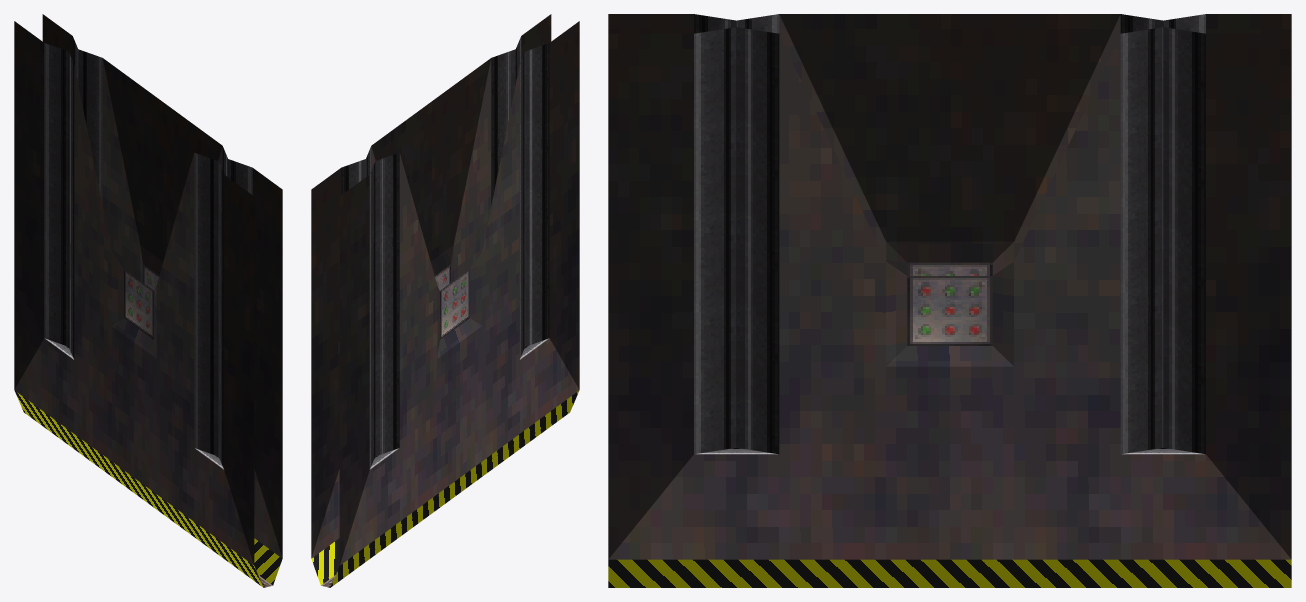
The model's file is control_blast_door_1.glb.
3 views of the same model, side by side, from view 1: azimuth 30°, elevation 25°; view 2: azimuth 150°, elevation 25°; view 3: azimuth 270°, elevation 25° (orthographic). The views are drawn at different scales.
Parts seen in each view (by area): view 1: Object; view 2: Object; view 3: Object.
Part boxes in pixels (bbox=[...]): Object: bbox=[14, 14, 282, 587]; Object: bbox=[311, 14, 579, 587]; Object: bbox=[608, 14, 1291, 587].
Bounding box in the file's own units: 0.1814 × 2.4 × 2.65.
7 materials, 7 textured.
